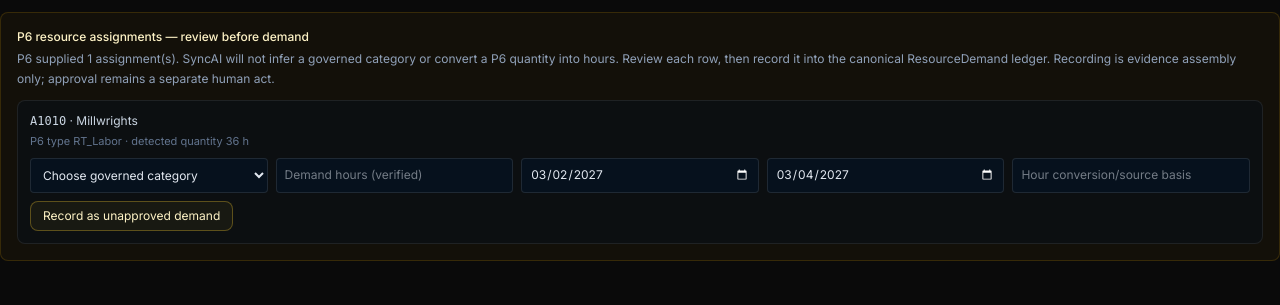
P6ResourceDemandReview › records only an unapproved canonical demand draft after explicit review
Select "Skilled trades" in the dropdown named "A1010 resource category": coordinates (149, 175) x1=30 y1=158 x2=268 y2=192
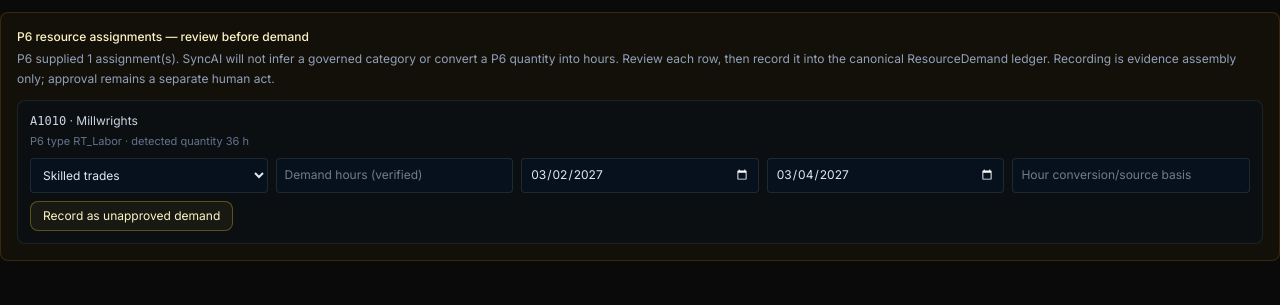
In the field named "A1010 demand hours": coordinates (394, 175) x1=276 y1=158 x2=513 y2=192, type "36"
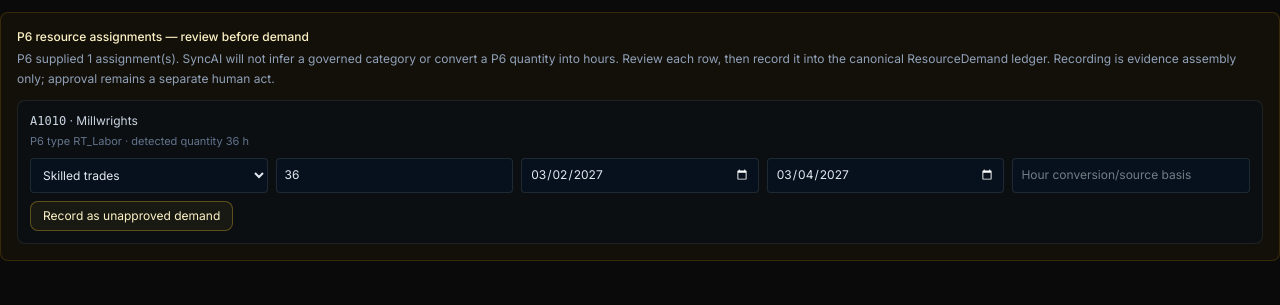
In the field named "A1010 demand basis": coordinates (1131, 175) x1=1012 y1=158 x2=1250 y2=192, type "Verified P6 remaining labour units are hours"
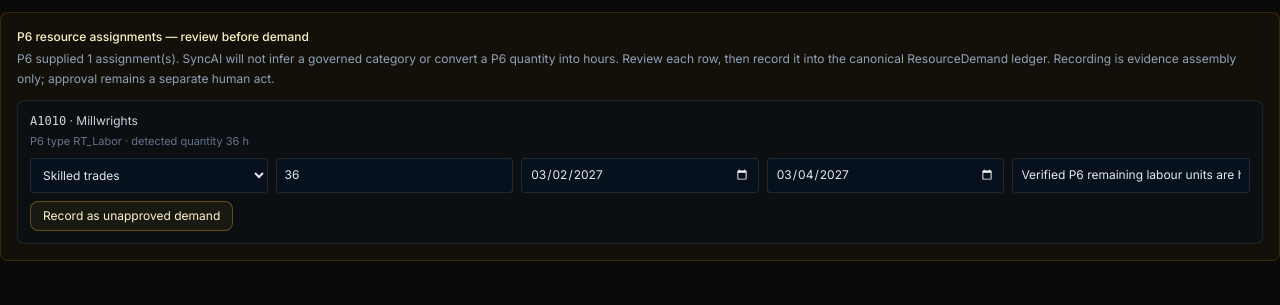
Click the button "Record as unapproved demand": coordinates (132, 216) x1=30 y1=200 x2=233 y2=230
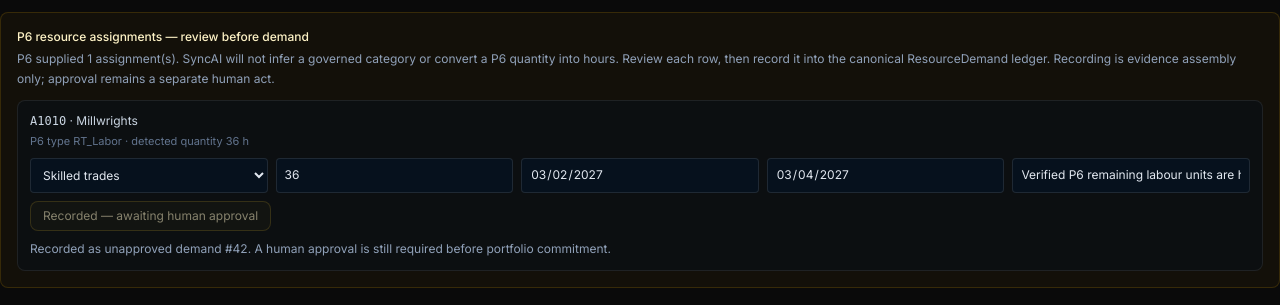
Expected: the text "Recorded as unapproved demand #42" is shown, x1=30 y1=240 x2=611 y2=256
Expected: the button "Recorded — awaiting human approval" is disabled, x1=30 y1=200 x2=271 y2=230
